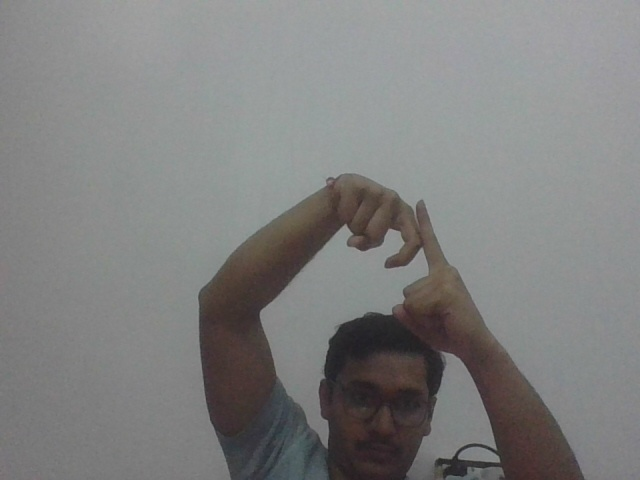K: (340, 158, 468, 321)
